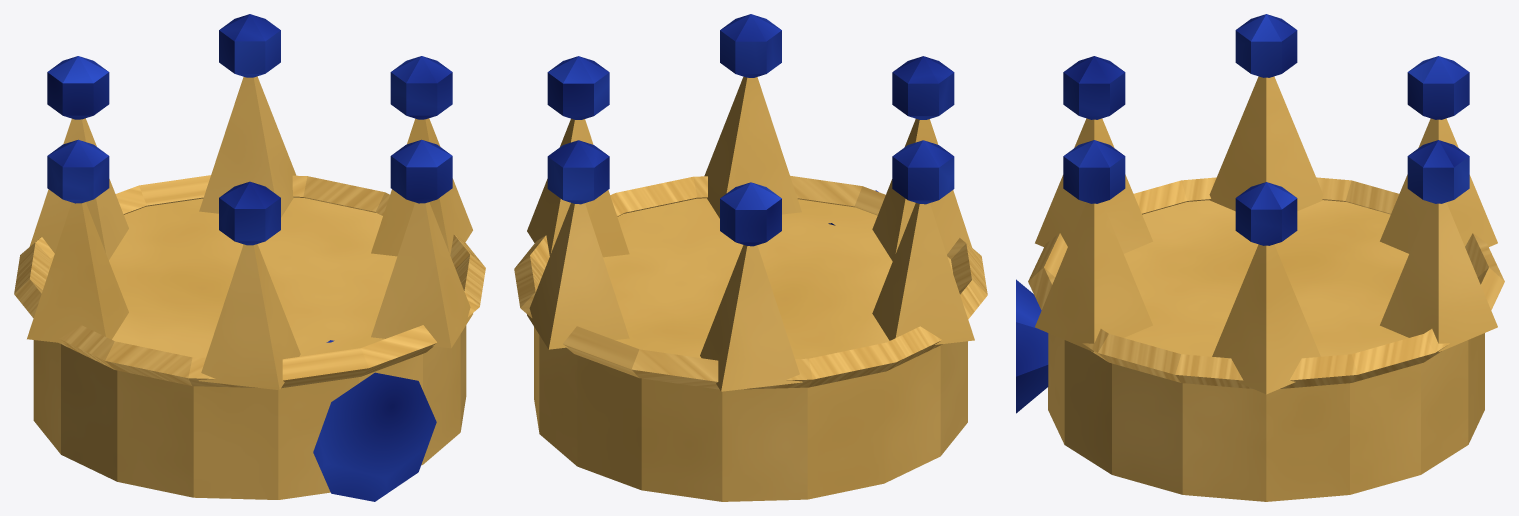
Rendered from mdl_legado_corona.fbx.
The picture shows the model from 3 angles, left to right: view 1: azimuth 30°, elevation 25°; view 2: azimuth 150°, elevation 25°; view 3: azimuth 270°, elevation 25°; orthographic projection.
Visible parts, largest first — view 1: metal_oro_pulido, gema_zafiro, metal_oro_cepillado; view 2: metal_oro_pulido, gema_zafiro, metal_oro_cepillado; view 3: metal_oro_pulido, gema_zafiro, metal_oro_cepillado.
Part boxes in pixels (<box>): metal_oro_pulido: <box>27,76,472,499</box>; gema_zafiro: <box>47,14,452,501</box>; metal_oro_cepillado: <box>14,175,485,388</box>; metal_oro_pulido: <box>527,76,974,501</box>; gema_zafiro: <box>547,14,954,246</box>; metal_oro_cepillado: <box>514,175,987,389</box>; metal_oro_pulido: <box>1035,76,1497,501</box>; gema_zafiro: <box>1016,14,1469,413</box>; metal_oro_cepillado: <box>1028,177,1504,388</box>.
Bounding box in the file's own units: 130 × 87 × 123.
